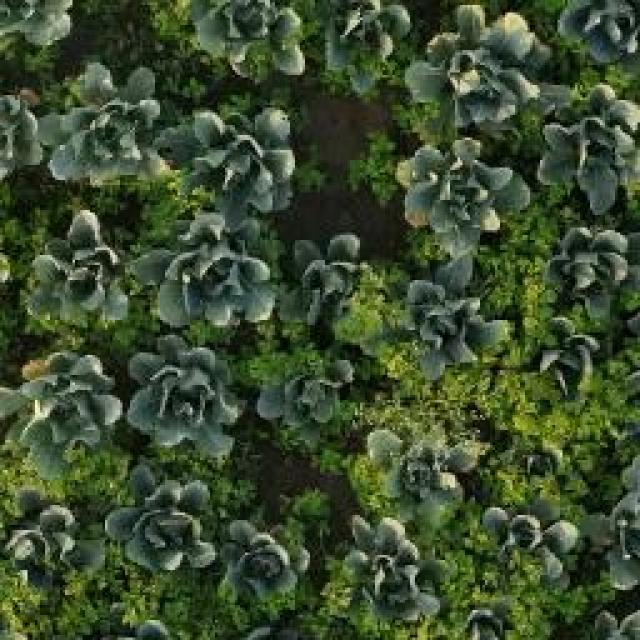cabbage: (145, 218, 268, 328), (58, 79, 171, 197), (418, 2, 530, 120), (110, 460, 220, 578), (350, 417, 460, 535), (20, 212, 130, 330), (395, 267, 505, 385), (125, 337, 237, 445), (185, 103, 301, 204), (7, 361, 106, 469), (409, 152, 523, 244), (480, 501, 580, 593), (181, 0, 300, 74), (274, 244, 371, 328), (267, 351, 355, 438), (541, 224, 630, 302), (225, 528, 307, 610), (350, 548, 439, 623), (0, 498, 80, 580), (538, 312, 616, 386), (329, 4, 404, 79)
